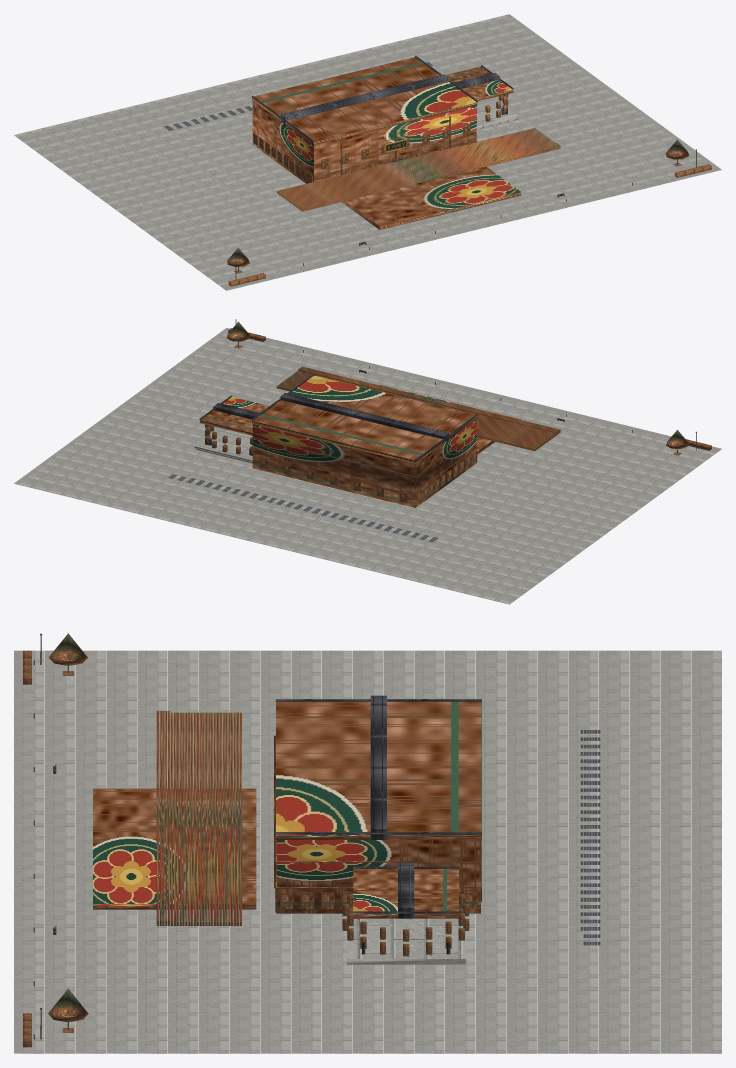
3 views of the same model, one above another, from view 1: azimuth 30°, elevation 25°; view 2: azimuth 150°, elevation 25°; view 3: azimuth 270°, elevation 25° (orthographic). The views are drawn at different scales.
Visible parts, largest first — view 1: 11710_01_05540_018_01__plinth_ground_base, 11710_01_05540_018_02__mass_body_facade, 11710_01_05540_018_03__roof_metal_ornament, 11710_01_05540_018_05__window_sash_glass, 11710_01_05540_018_06__landscape_greenery; view 2: 11710_01_05540_018_01__plinth_ground_base, 11710_01_05540_018_02__mass_body_facade, 11710_01_05540_018_03__roof_metal_ornament, 11710_01_05540_018_03__roof_deck_structure, 11710_01_05540_018_06__landscape_greenery; view 3: 11710_01_05540_018_01__plinth_ground_base, 11710_01_05540_018_02__mass_body_facade, 11710_01_05540_018_03__roof_metal_ornament, 11710_01_05540_018_03__roof_deck_structure, 11710_01_05540_018_06__landscape_greenery, 11710_01_05540_018_05__window_sash_glass.
Part boxes in pixels (x1,y1,x2,y2): 11710_01_05540_018_01__plinth_ground_base: (14,14,721,290); 11710_01_05540_018_02__mass_body_facade: (252,57,560,229); 11710_01_05540_018_03__roof_metal_ornament: (251,55,513,141); 11710_01_05540_018_05__window_sash_glass: (320,94,508,179); 11710_01_05540_018_06__landscape_greenery: (227,139,711,286); 11710_01_05540_018_01__plinth_ground_base: (14,328,721,604); 11710_01_05540_018_02__mass_body_facade: (200,366,560,507); 11710_01_05540_018_03__roof_metal_ornament: (199,374,477,460); 11710_01_05540_018_03__roof_deck_structure: (168,474,438,542); 11710_01_05540_018_06__landscape_greenery: (226,321,711,455); 11710_01_05540_018_01__plinth_ground_base: (14,650,721,1053); 11710_01_05540_018_02__mass_body_facade: (93,701,481,925); 11710_01_05540_018_03__roof_metal_ornament: (275,695,481,918); 11710_01_05540_018_03__roof_deck_structure: (580,730,600,945); 11710_01_05540_018_06__landscape_greenery: (23,633,88,1047); 11710_01_05540_018_05__window_sash_glass: (275,756,469,956).
Bounding box in the file's own units: 140 × 14.6 × 104.
Materials: 7 (7 with a texture image).
